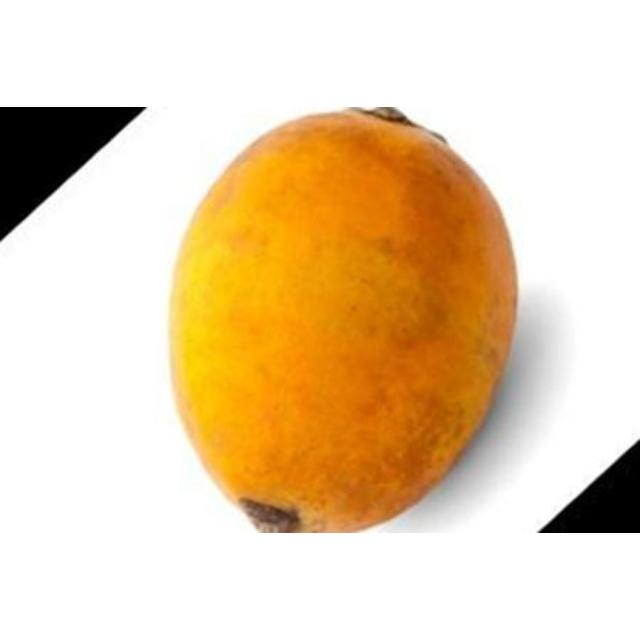good: (165, 110, 521, 532)
